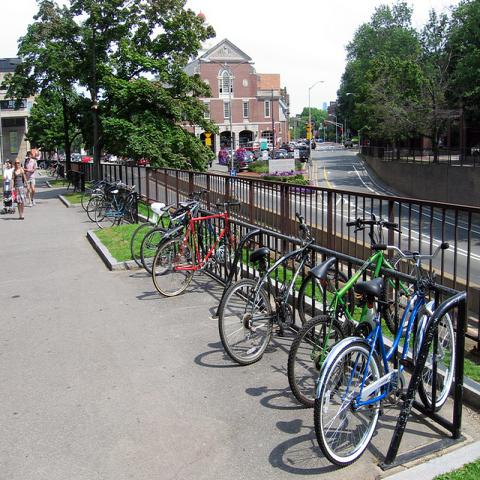car: (228, 158, 248, 173), (295, 145, 309, 163), (226, 149, 235, 165), (304, 138, 316, 150), (278, 144, 295, 152), (245, 151, 256, 162), (295, 138, 308, 147), (275, 151, 287, 159), (73, 153, 82, 162), (82, 156, 90, 162)
